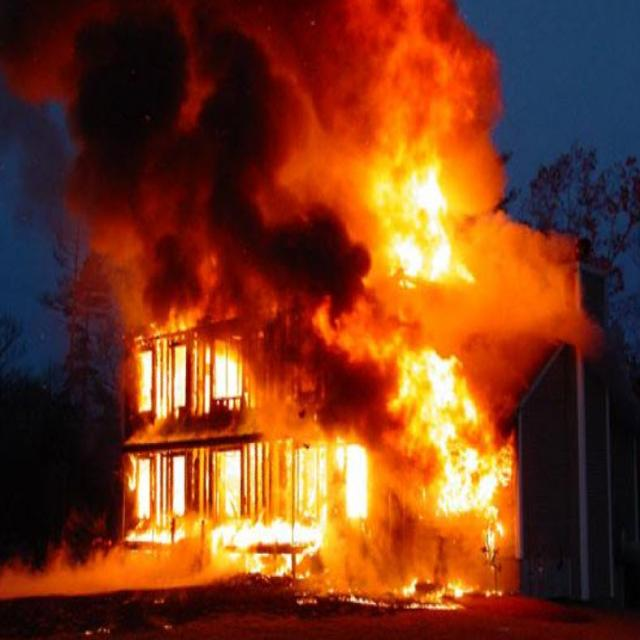Fire: (126, 320, 379, 575), (391, 331, 519, 547), (367, 145, 482, 290)
Smoke: (31, 18, 358, 287), (358, 0, 516, 146), (482, 219, 594, 331)
